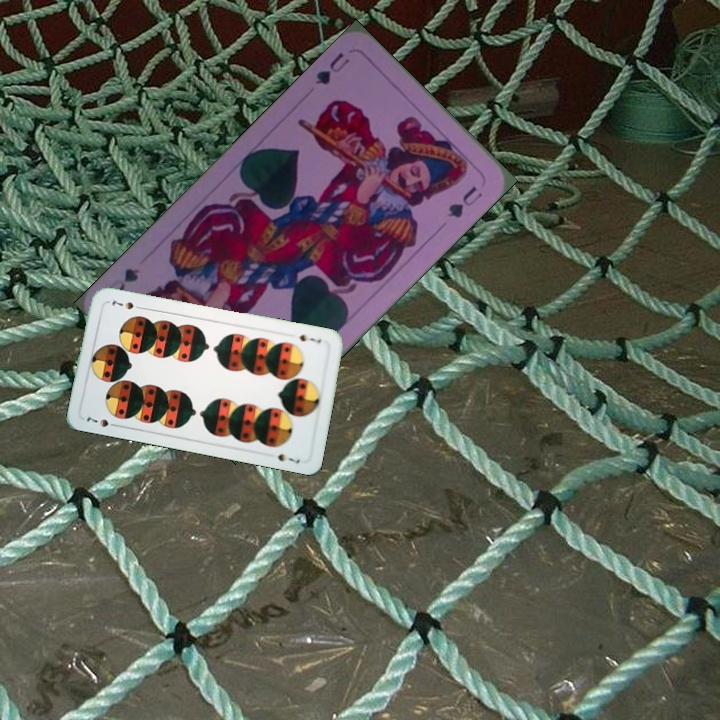GU: (311, 48, 353, 88)
S7: (82, 411, 121, 430), (295, 331, 324, 345)
